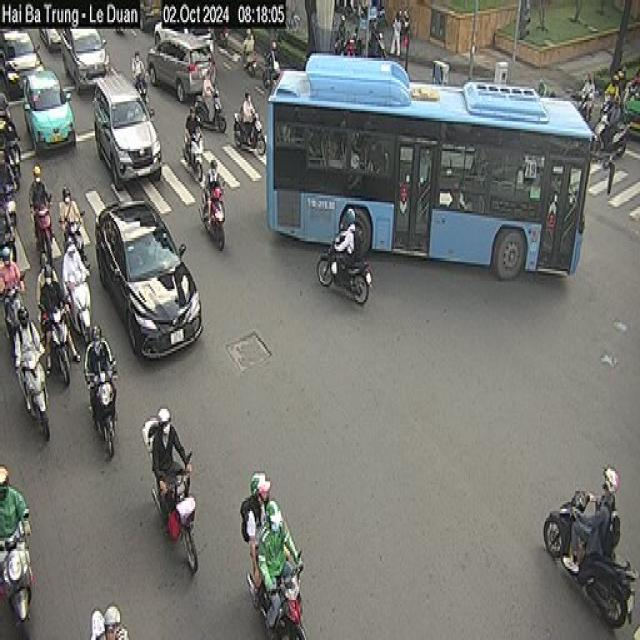bus: (265, 51, 594, 280)
car: (94, 198, 202, 360), (22, 66, 76, 156)
motorcycle: (542, 489, 638, 629), (150, 449, 198, 575), (245, 549, 307, 638), (0, 511, 34, 625), (316, 236, 372, 304), (14, 344, 50, 440), (84, 358, 118, 458), (40, 302, 71, 387), (197, 178, 225, 251), (232, 106, 266, 156), (194, 87, 226, 131), (181, 131, 204, 180)
person: (561, 464, 620, 574), (256, 498, 302, 626), (151, 407, 191, 513), (240, 471, 271, 589), (28, 165, 52, 246), (330, 207, 355, 282), (58, 184, 82, 247), (201, 158, 220, 218), (242, 89, 258, 144), (241, 27, 254, 69)
